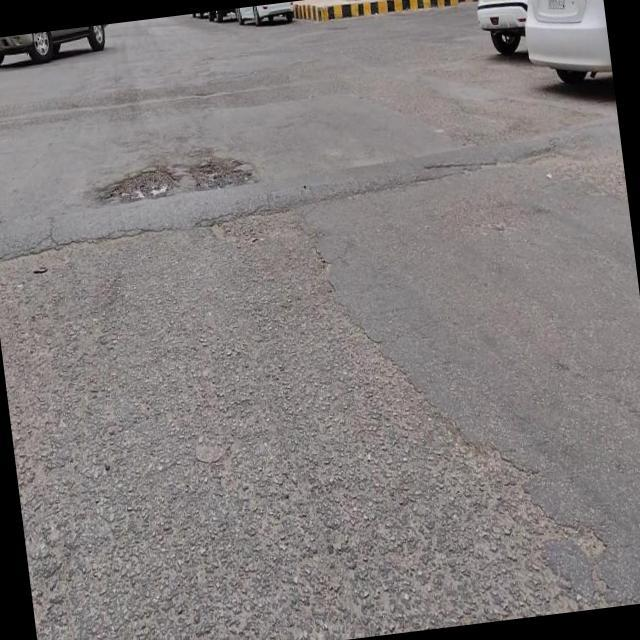Pothole: (100, 164, 181, 198), (188, 154, 255, 189)
